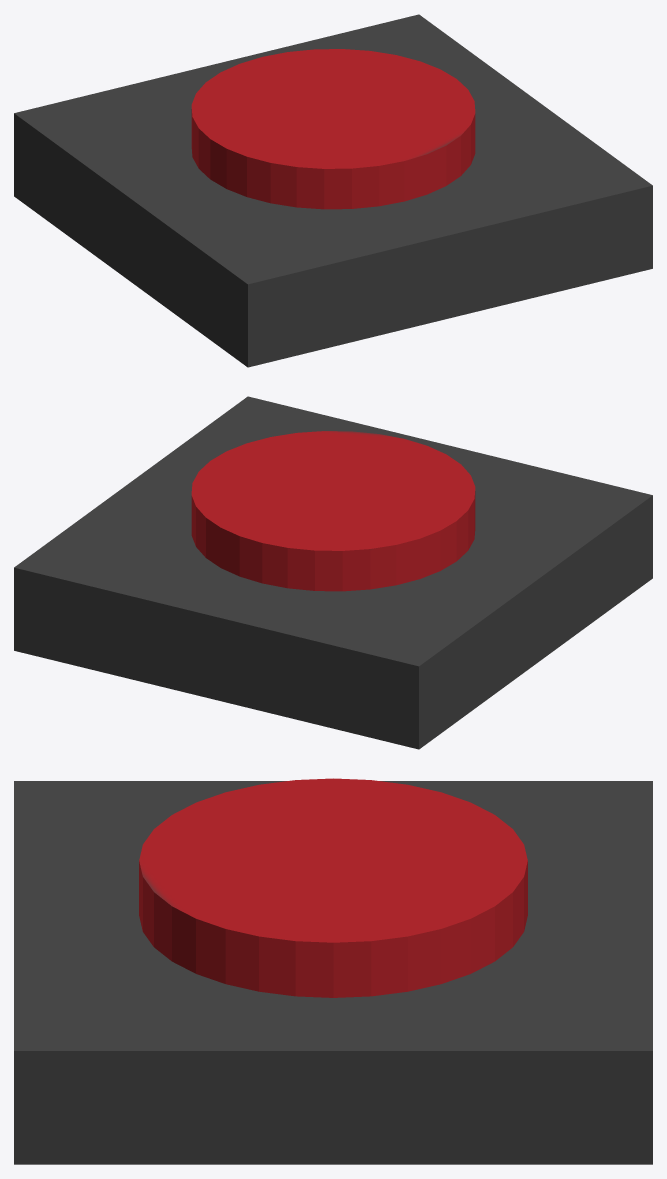
The model's file is Button.fbx.
3 views of the same model, one above another, from view 1: azimuth 30°, elevation 25°; view 2: azimuth 150°, elevation 25°; view 3: azimuth 270°, elevation 25° (orthographic). The views are drawn at different scales.
Parts seen in each view (by area): view 1: 立方体; view 2: 立方体; view 3: 立方体.
Boxes of the visible parts, left/top/right/bottom form: 立方体: left=14, top=14, right=652, bottom=367; 立方体: left=14, top=396, right=652, bottom=749; 立方体: left=14, top=778, right=652, bottom=1164.
Bounding box in the file's own units: 329 × 95.86 × 329.
